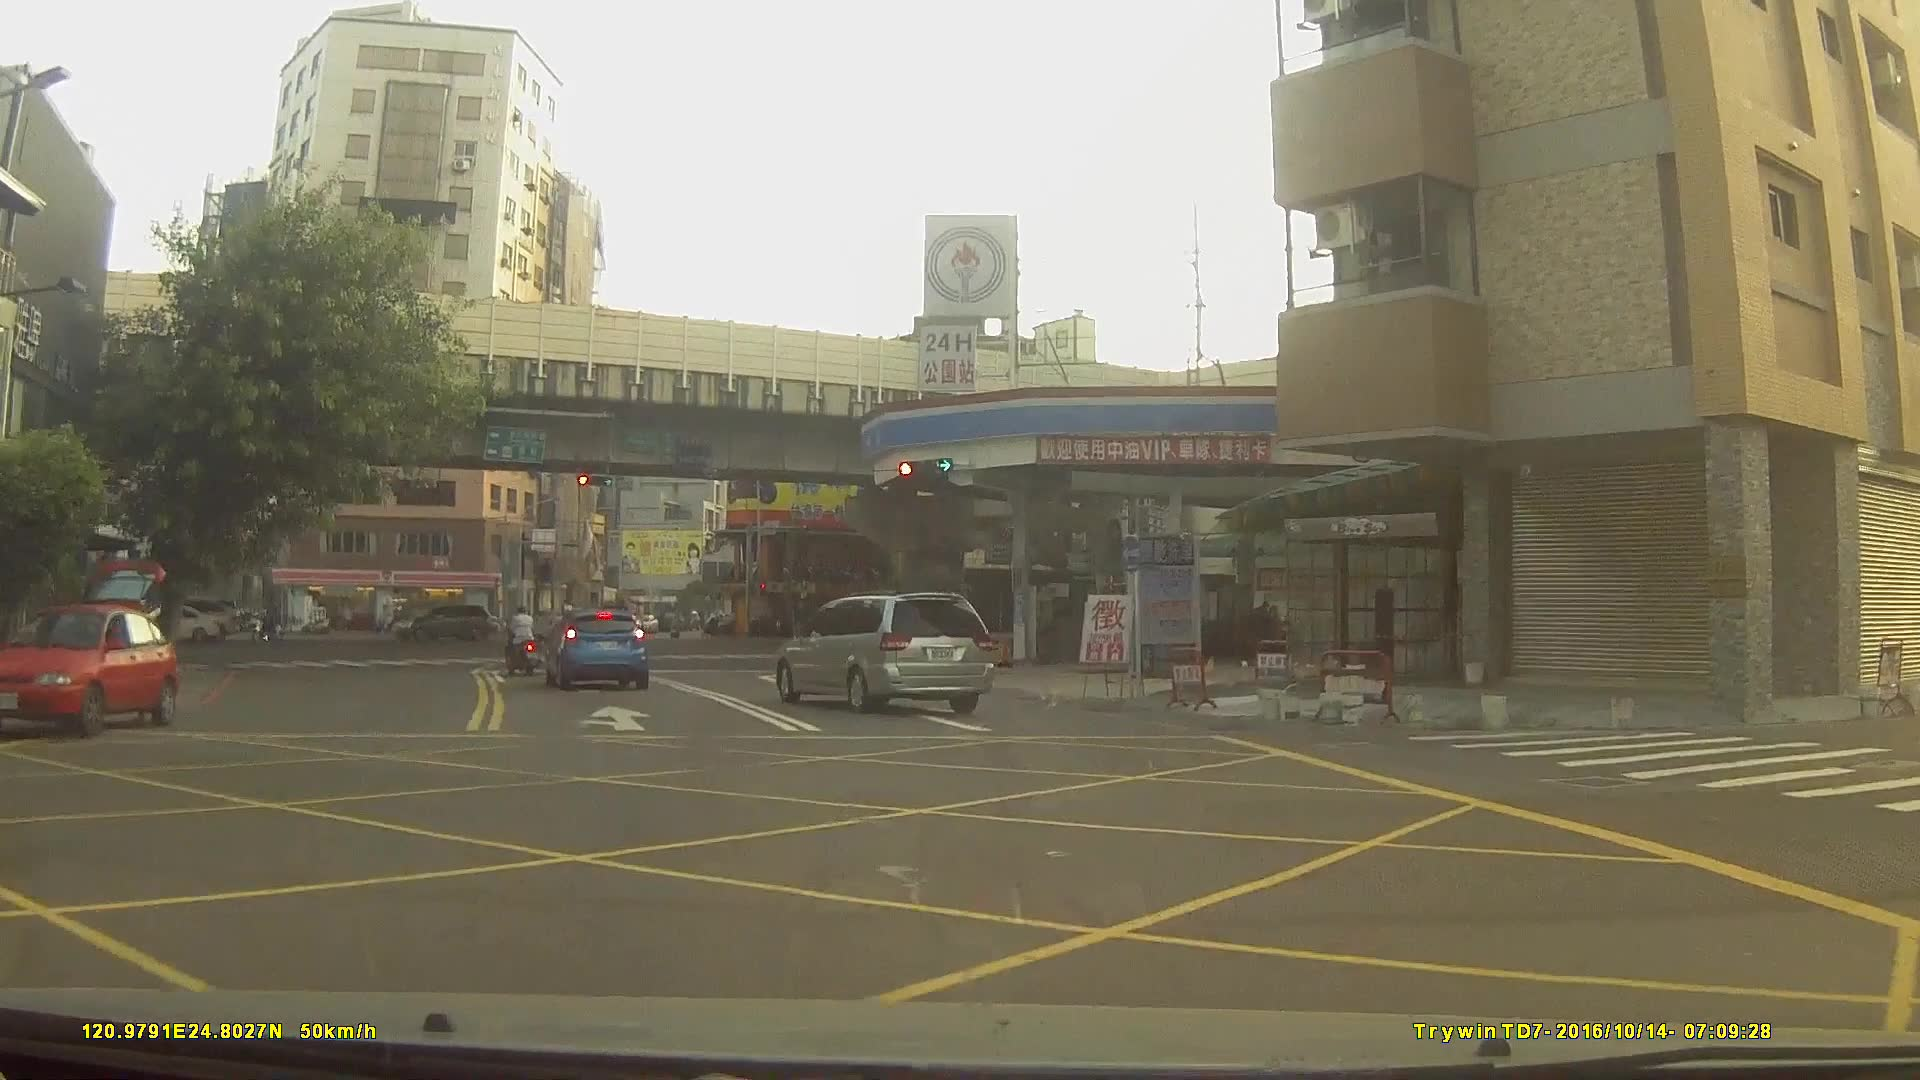rider: (504, 607, 541, 678), (253, 617, 282, 651)
vehicle: (778, 587, 996, 712), (0, 603, 180, 740), (543, 610, 648, 692), (389, 602, 493, 641), (133, 600, 222, 645), (532, 604, 611, 641)
